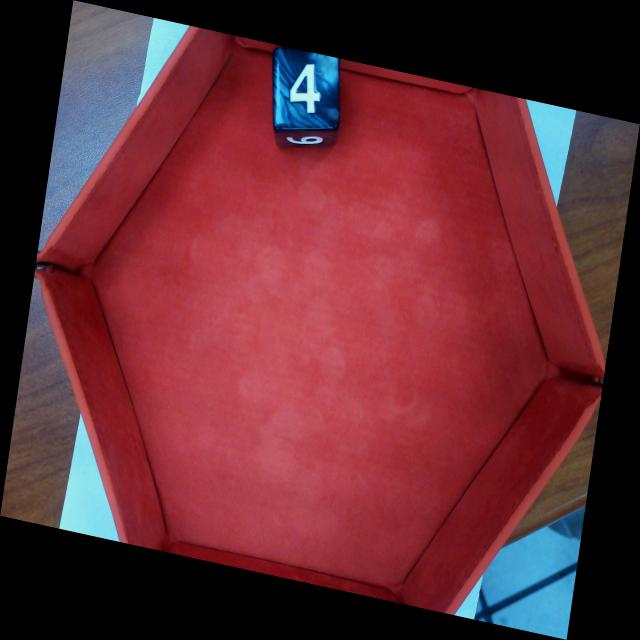dice: (272, 46, 342, 133)
